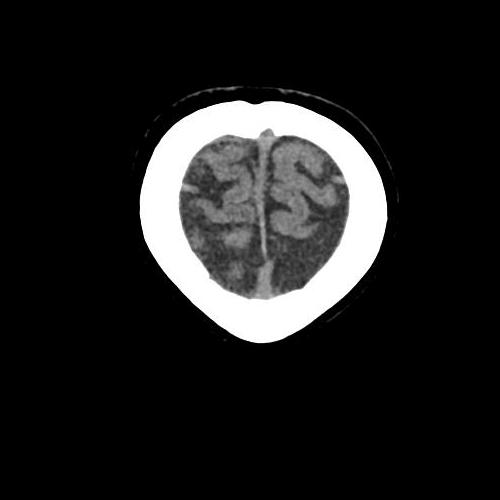Normal_Brain: (50, 37, 461, 391)
